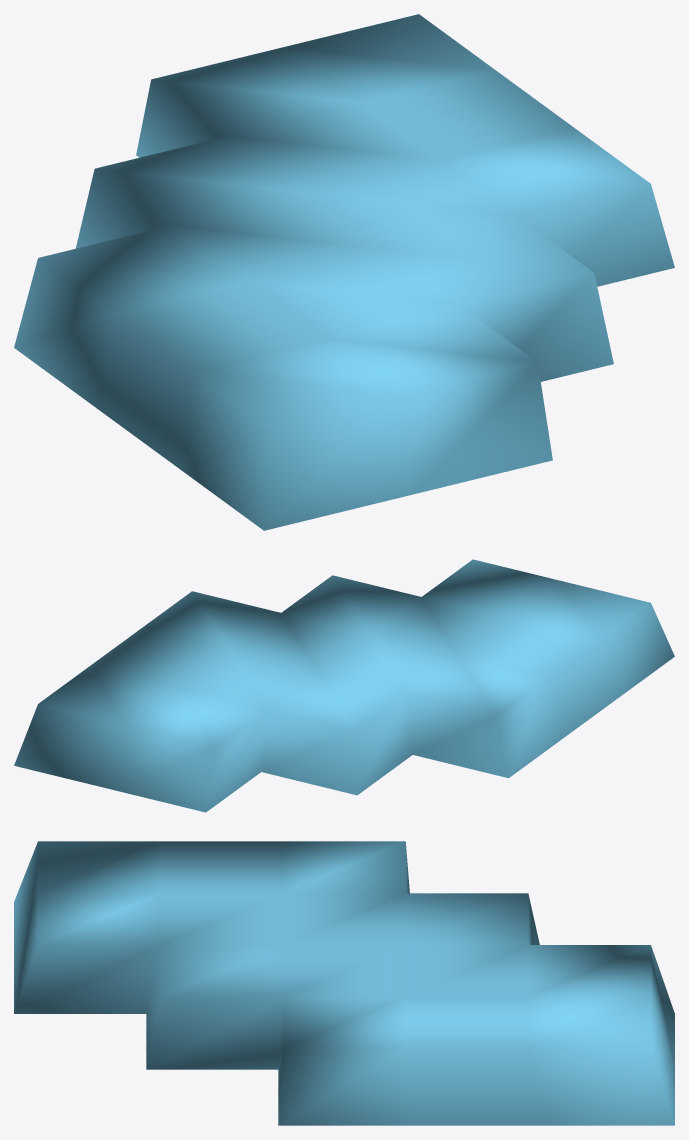
File: WATER1.fbx
3 renders of one model, top to bottom at view 1: azimuth 30°, elevation 25°; view 2: azimuth 150°, elevation 25°; view 3: azimuth 270°, elevation 25°, orthographic. The views are drawn at different scales.
Visible parts, largest first — view 1: Floor.005; view 2: Floor.005; view 3: Floor.005.
Part boxes in pixels (left/top/right/bottom): Floor.005: left=14, top=14, right=674, bottom=530; Floor.005: left=14, top=559, right=674, bottom=812; Floor.005: left=14, top=841, right=674, bottom=1125.
Size of the model in its own units: 2667 by 383 by 3333.
